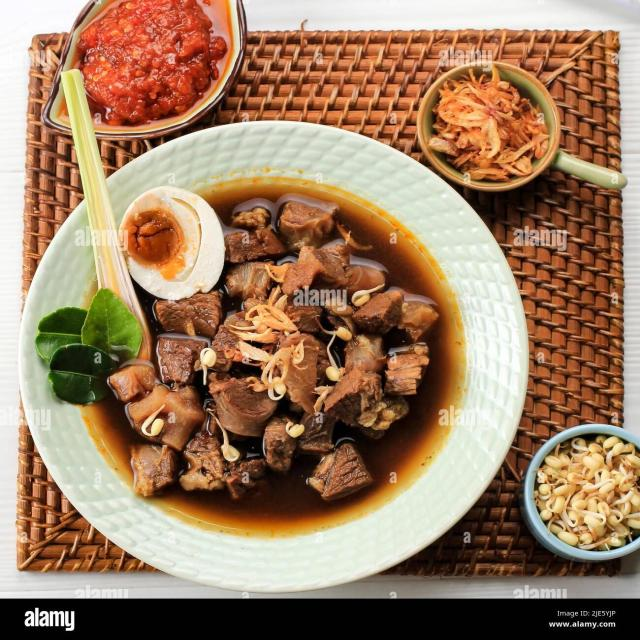Rawon: (105, 219, 449, 532)
